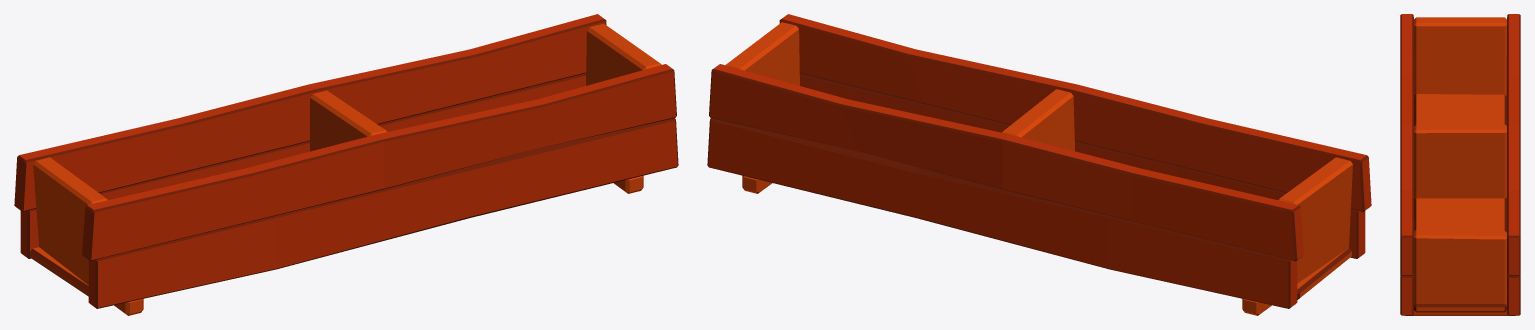
File: winter_castle_item10.glb
3 views of the same model, side by side, from view 1: azimuth 30°, elevation 25°; view 2: azimuth 150°, elevation 25°; view 3: azimuth 270°, elevation 25° (orthographic). The views are drawn at different scales.
Parts seen in each view (by area): view 1: Item10_Medieval_0; view 2: Item10_Medieval_0; view 3: Item10_Medieval_0.
Part boxes in pixels (<box>): Item10_Medieval_0: <box>14,14,678,315</box>; Item10_Medieval_0: <box>707,14,1371,315</box>; Item10_Medieval_0: <box>1400,14,1520,315</box>.
Size of the model in its own units: 2.13 by 0.4026 by 0.48.
Materials: 1 (1 with a texture image).
